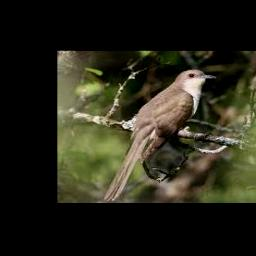Cuckoo: (105, 69, 216, 201)
